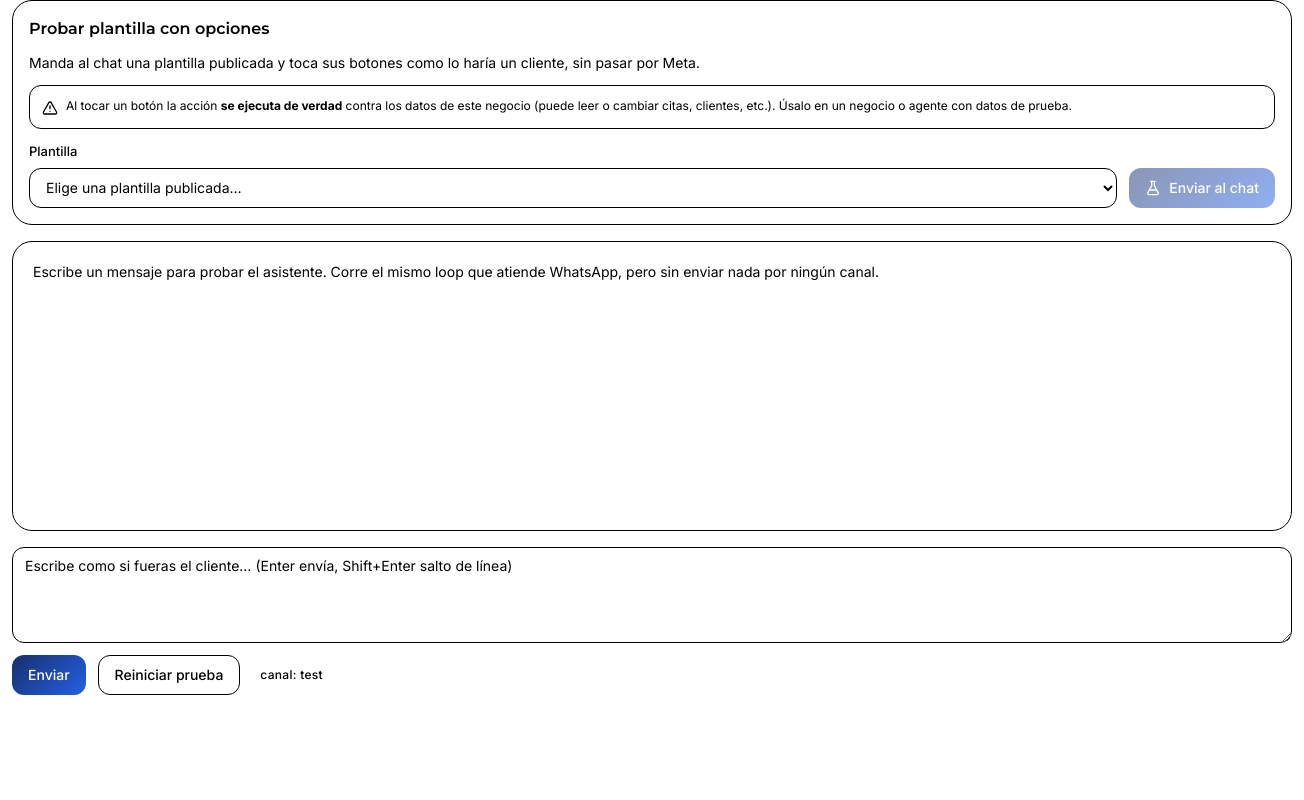
Test case: Probar plantilla con opciones › con la bandera apagada el tap muestra el error del backend, no falla en silencio, y el botón sigue disponible
Select "Ver mis citas" in the dropdown labelled "Plantilla" at (573, 188), box [29,168,1117,208]
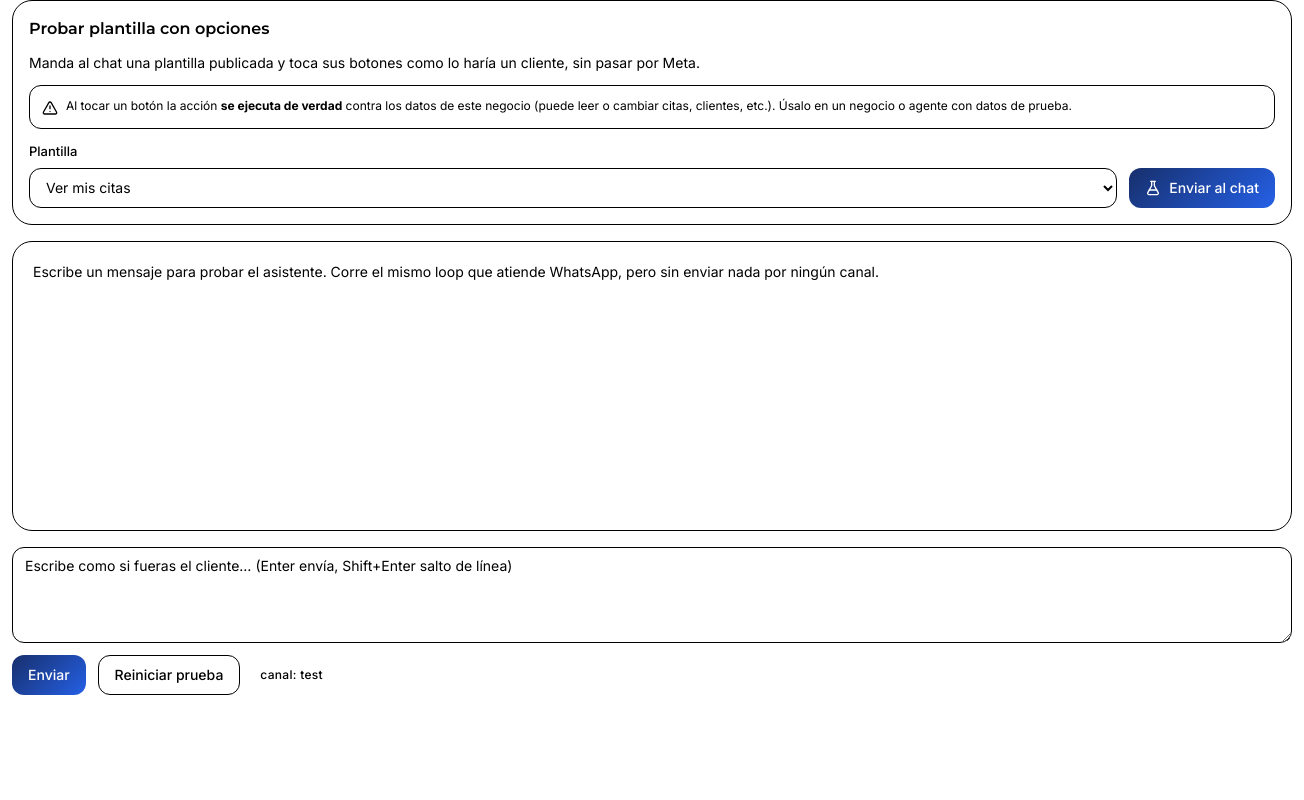
Click the button "Enviar al chat".
click(1202, 188)  # box [1129,168,1275,208]
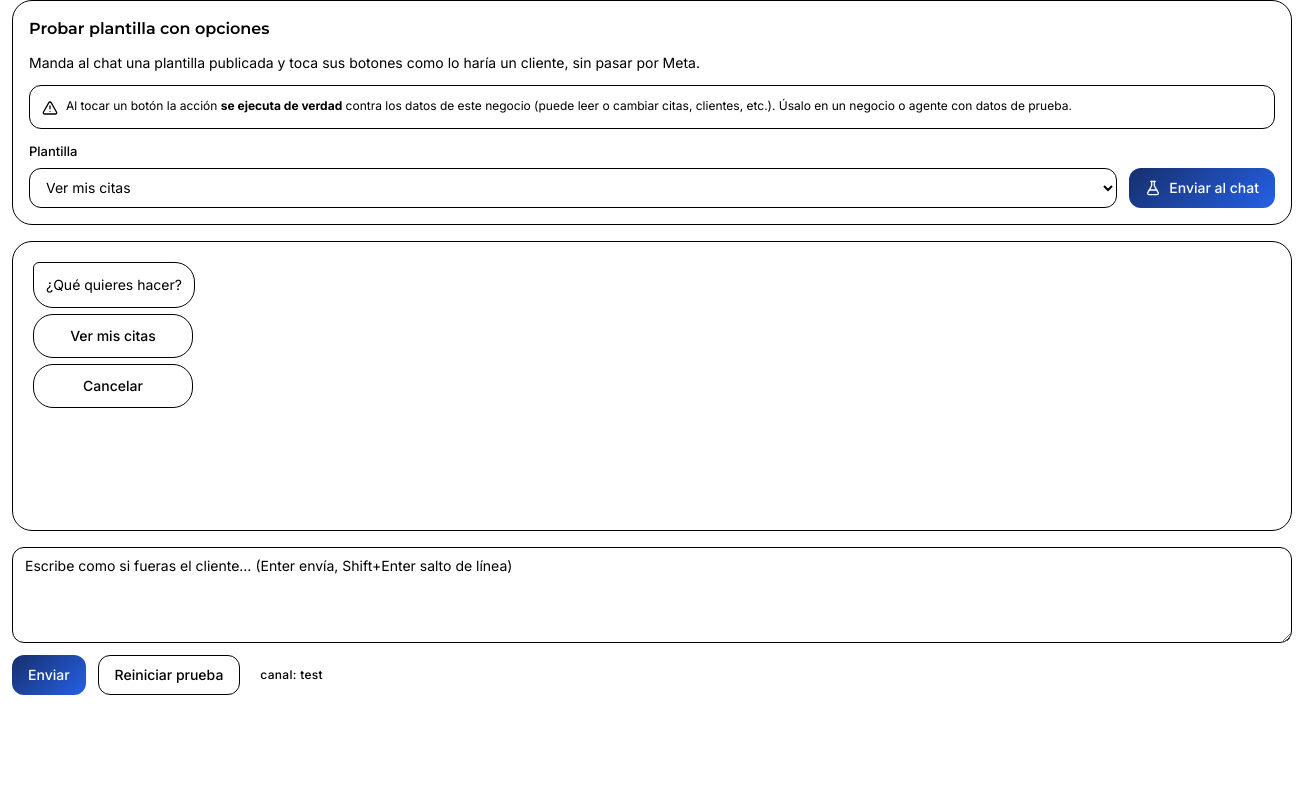
Click the button "Ver mis citas".
click(113, 336)  # box [33,314,193,358]
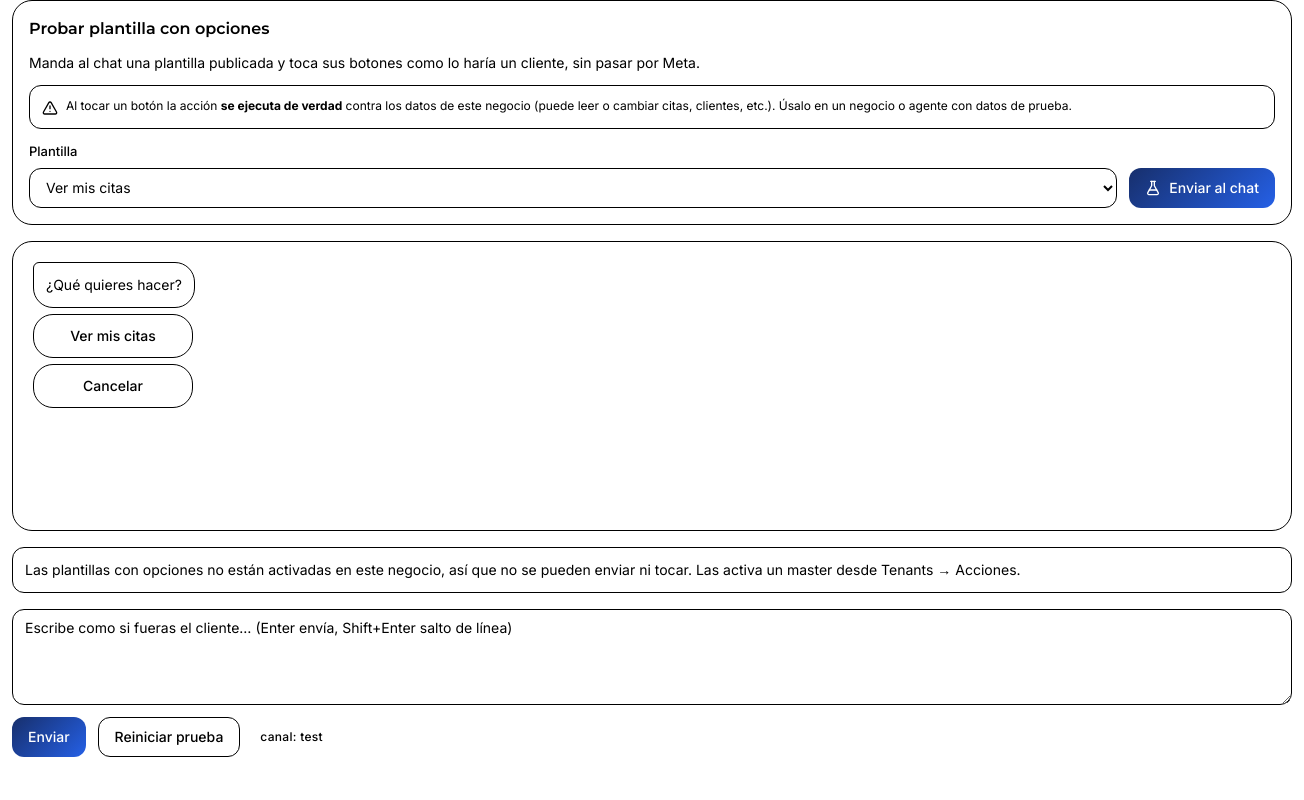
Expected: the button "Ver mis citas" is enabled, [33,314,193,358]
Expected: the message shows "no están activadas en este negocio", [25,561,1021,578]
Expected: the message shows "master", [25,561,1021,578]
